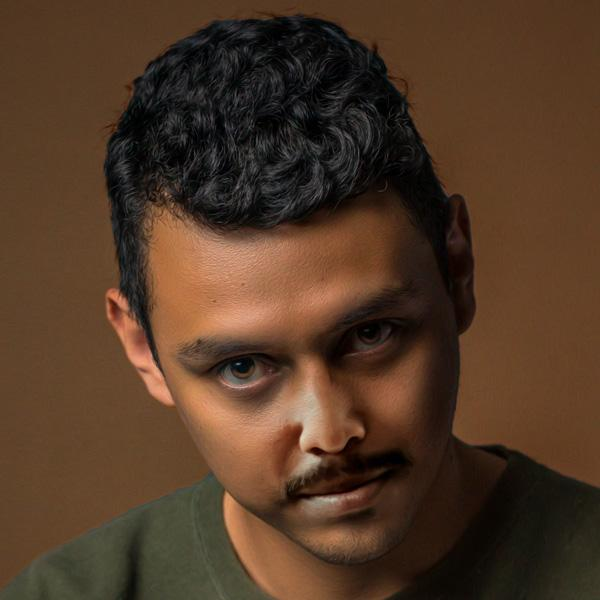Eyes: (330, 303, 413, 367), (197, 346, 289, 399)
